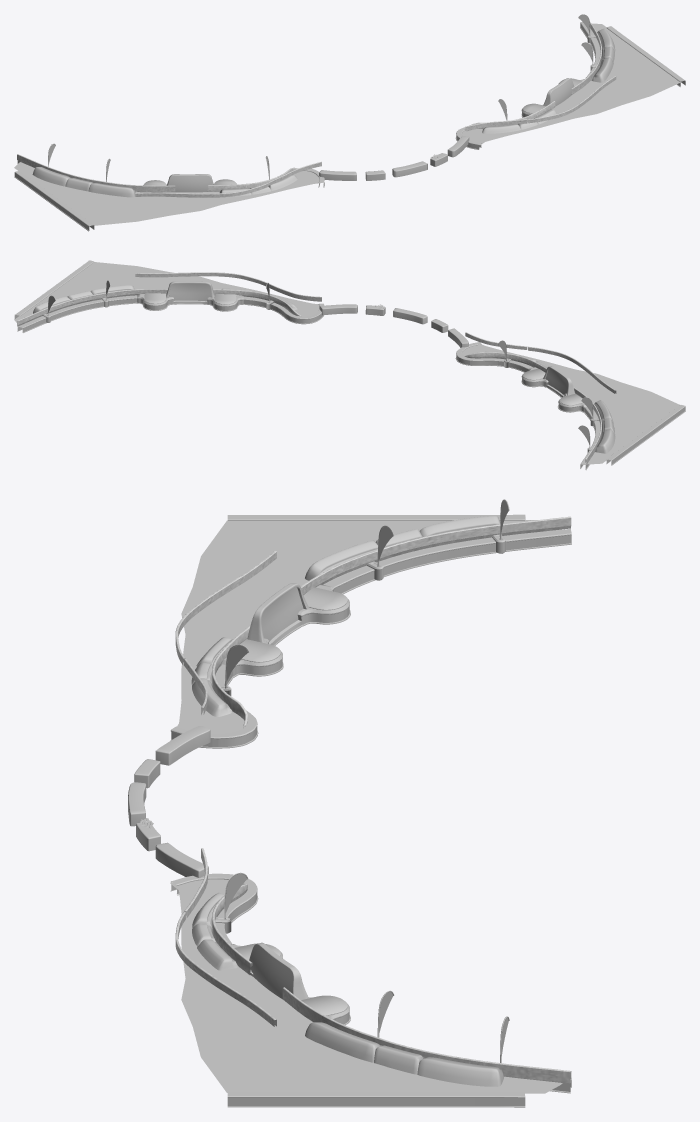
File: pref_Area02_Small_Top_Forest_lv3.fbx
The picture shows the model from 3 angles, top to bottom: view 1: azimuth 30°, elevation 25°; view 2: azimuth 150°, elevation 25°; view 3: azimuth 270°, elevation 25°; orthographic projection. The views are drawn at different scales.
Parts seen in each view (by area): view 1: sm_beach_techfield_a_mirror_lv3, sm_beach_techfield_a_lv3, sm_beach_techglass_north_a_lv3, pref_sm_beach_techgrassny01b_lv3, sm_beach_techfield_b_mirror_lv3, pref_sm_beach_techgrassny01b_mirror_lv3, sm_beach_techfield_b_lv3, sm_beach_techglass_north_b_lv3, sm_beach_techfield_d_lv3; view 2: sm_beach_techfield_a_mirror_lv3, sm_beach_techfield_b_lv3, sm_beach_techfield_a_lv3, sm_beach_techfield_b_mirror_lv3, sm_beach_techglass_north_a_lv3, pref_sm_beach_techgrassny01b_mirror_lv3, pref_sm_beach_techgrassny01b_lv3, sm_beach_techglass_north_b_lv3, pref_sm_beach_techled01a_lv3, sm_beach_techfield_d_mirror_lv3, pref_sm_beach_techled01a_mirror_lv3, sm_beach_techfield_d_lv3; view 3: sm_beach_techfield_a_lv3, sm_beach_techfield_a_mirror_lv3, sm_beach_techfield_b_mirror_lv3, sm_beach_techfield_b_lv3, sm_beach_techglass_north_a_lv3, pref_sm_beach_techgrassny01b_mirror_lv3, pref_sm_beach_techgrassny01b_lv3, sm_beach_techglass_north_b_lv3, sm_beach_techfield_d_mirror_lv3, pref_sm_beach_techled01a_mirror_lv3, sm_beach_techfield_d_lv3.
Boxes of the visible parts, x1=… form: sm_beach_techfield_a_mirror_lv3: x1=14, y1=162, x2=322, y2=225; sm_beach_techfield_a_lv3: x1=462, y1=23, x2=680, y2=145; sm_beach_techglass_north_a_lv3: x1=17, y1=22, x2=616, y2=197; pref_sm_beach_techgrassny01b_lv3: x1=32, y1=167, x2=385, y2=197; sm_beach_techfield_b_mirror_lv3: x1=14, y1=160, x2=324, y2=231; pref_sm_beach_techgrassny01b_mirror_lv3: x1=392, y1=28, x2=615, y2=177; sm_beach_techfield_b_lv3: x1=455, y1=22, x2=685, y2=149; sm_beach_techglass_north_b_lv3: x1=208, y1=101, x2=555, y2=191; sm_beach_techfield_d_lv3: x1=498, y1=14, x2=596, y2=120; sm_beach_techfield_a_mirror_lv3: x1=462, y1=344, x2=679, y2=464; sm_beach_techfield_b_lv3: x1=14, y1=260, x2=324, y2=332; sm_beach_techfield_a_lv3: x1=14, y1=262, x2=319, y2=322; sm_beach_techfield_b_mirror_lv3: x1=455, y1=342, x2=685, y2=470; sm_beach_techglass_north_a_lv3: x1=17, y1=272, x2=616, y2=464; pref_sm_beach_techgrassny01b_mirror_lv3: x1=33, y1=285, x2=427, y2=324; pref_sm_beach_techgrassny01b_lv3: x1=431, y1=319, x2=615, y2=453; sm_beach_techglass_north_b_lv3: x1=213, y1=289, x2=546, y2=372; pref_sm_beach_techled01a_lv3: x1=169, y1=283, x2=211, y2=301; sm_beach_techfield_d_mirror_lv3: x1=498, y1=340, x2=599, y2=452; pref_sm_beach_techled01a_mirror_lv3: x1=545, y1=368, x2=567, y2=394; sm_beach_techfield_d_lv3: x1=42, y1=280, x2=274, y2=322; sm_beach_techfield_a_lv3: x1=170, y1=879, x2=562, y2=1093; sm_beach_techfield_a_mirror_lv3: x1=177, y1=520, x2=560, y2=733; sm_beach_techfield_b_mirror_lv3: x1=170, y1=514, x2=571, y2=748; sm_beach_techfield_b_lv3: x1=170, y1=873, x2=571, y2=1107; sm_beach_techglass_north_a_lv3: x1=175, y1=516, x2=571, y2=1083; pref_sm_beach_techgrassny01b_mirror_lv3: x1=128, y1=782, x2=503, y2=1086; pref_sm_beach_techgrassny01b_lv3: x1=134, y1=516, x2=503, y2=788; sm_beach_techglass_north_b_lv3: x1=212, y1=625, x2=252, y2=975; sm_beach_techfield_d_mirror_lv3: x1=220, y1=499, x2=509, y2=695; pref_sm_beach_techled01a_mirror_lv3: x1=261, y1=587, x2=303, y2=641; sm_beach_techfield_d_lv3: x1=215, y1=872, x2=509, y2=1063.
Bounding box in the file's own units: 110 × 5.11 × 35.44.
